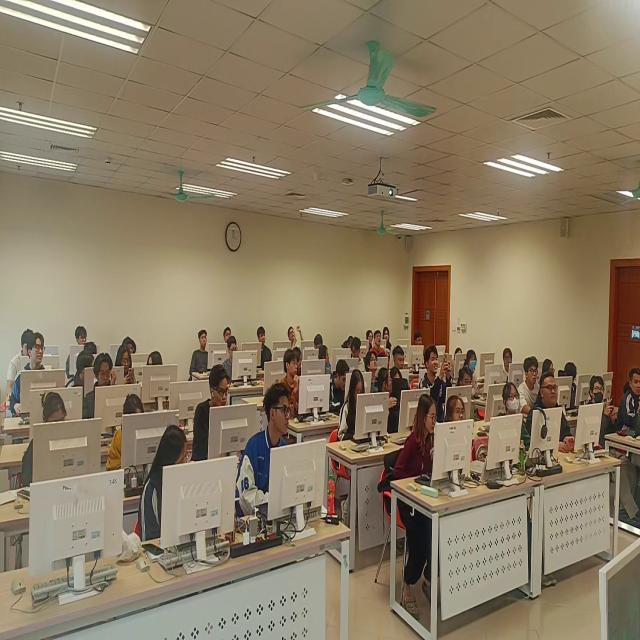raise_hand: (288, 320, 306, 356)
raise_head: (238, 387, 296, 525), (194, 358, 235, 471), (12, 327, 47, 419), (532, 372, 568, 450), (584, 374, 618, 453), (496, 380, 526, 469), (82, 347, 116, 422), (443, 389, 471, 475), (64, 315, 89, 379), (281, 348, 303, 419), (625, 364, 640, 458), (190, 325, 211, 379), (255, 322, 275, 378), (523, 351, 541, 407), (366, 344, 382, 396), (501, 342, 517, 385), (371, 328, 389, 366), (459, 364, 474, 406), (466, 348, 479, 385), (123, 331, 137, 364), (222, 323, 235, 346), (453, 340, 464, 366), (382, 323, 392, 348), (367, 323, 375, 349)
using_computer: (394, 390, 441, 520), (20, 386, 72, 495), (109, 388, 148, 479), (340, 365, 370, 462), (8, 318, 35, 391), (330, 355, 350, 417), (543, 347, 558, 403), (565, 360, 581, 412), (222, 337, 240, 382), (391, 335, 408, 375), (391, 361, 406, 406), (312, 326, 325, 353), (412, 330, 424, 357), (295, 343, 304, 377), (345, 330, 356, 353)
using_phone: (419, 342, 453, 398), (115, 341, 137, 398)
